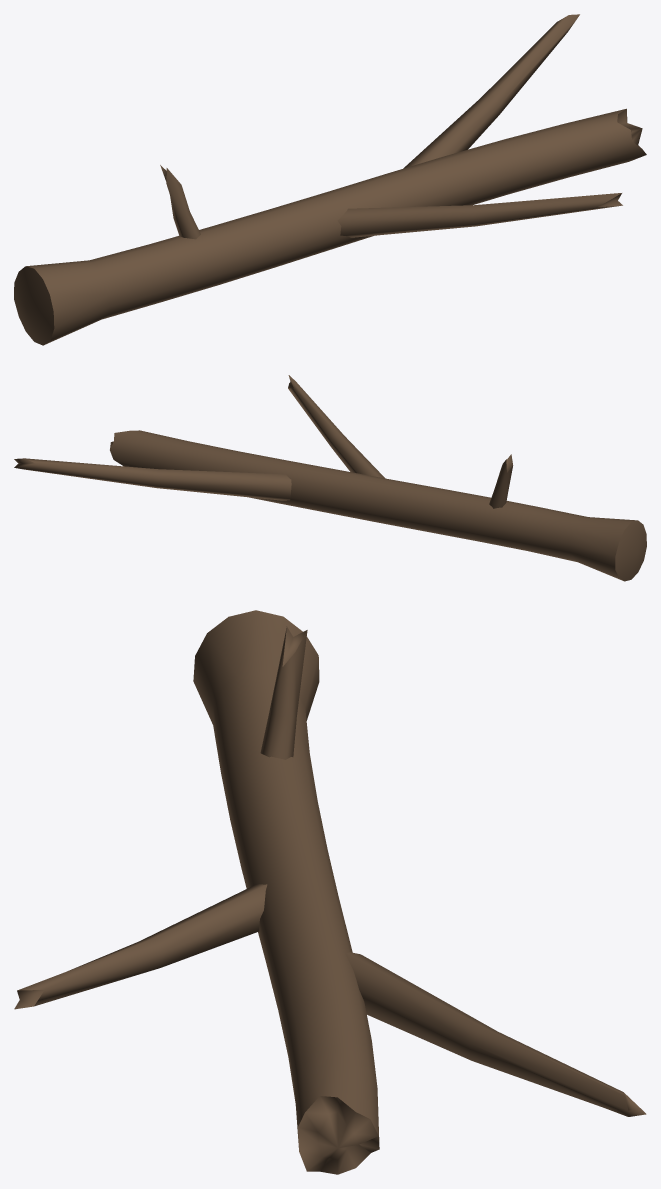
The model's file is beach_driftwood_b.glb.
The picture shows the model from 3 angles, top to bottom: view 1: azimuth 30°, elevation 25°; view 2: azimuth 150°, elevation 25°; view 3: azimuth 270°, elevation 25°; orthographic projection. The views are drawn at different scales.
Visible parts, largest first — view 1: beach_driftwood_b_lod0; view 2: beach_driftwood_b_lod0; view 3: beach_driftwood_b_lod0.
Part boxes in pixels (box(x1,y1,x2,y2)): beach_driftwood_b_lod0: box(14, 14, 646, 345); beach_driftwood_b_lod0: box(14, 375, 646, 581); beach_driftwood_b_lod0: box(14, 610, 646, 1174).
Size of what is drawn, in the model's own units: 2.08 by 0.391 by 1.08.
